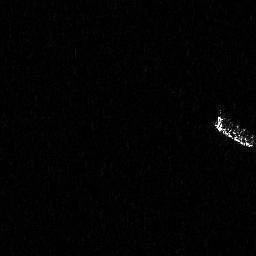ship: (213, 108, 256, 148)
